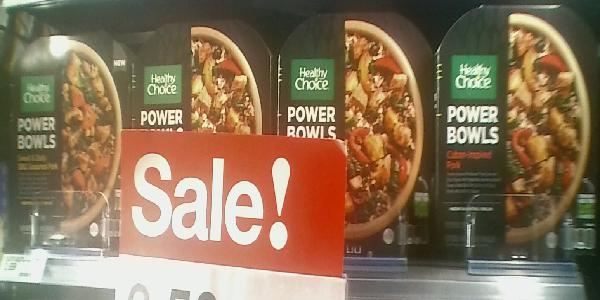pizza1: (438, 1, 600, 250), (276, 1, 431, 249), (126, 17, 268, 251), (5, 33, 119, 231)
